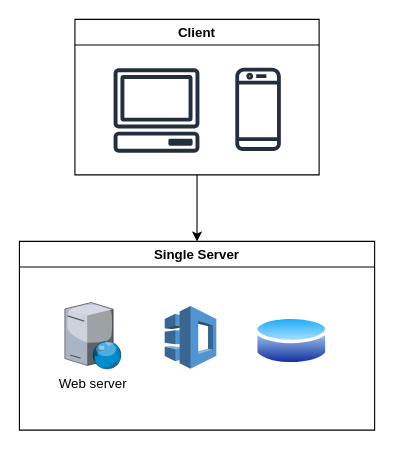
Image size: 394x450. Some labels were removed from this diagram. Each missing label, with the centre of its shape:
Application: the point at 190,337
Database: the point at 291,340
